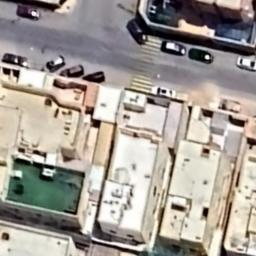SUV: (38, 54, 67, 74), (56, 64, 84, 79)
sedan: (1, 52, 29, 70), (188, 46, 216, 64), (159, 38, 186, 56), (151, 84, 179, 100), (236, 55, 256, 72)
unknown: (15, 4, 42, 22)
van: (126, 17, 150, 45), (77, 70, 107, 86)
